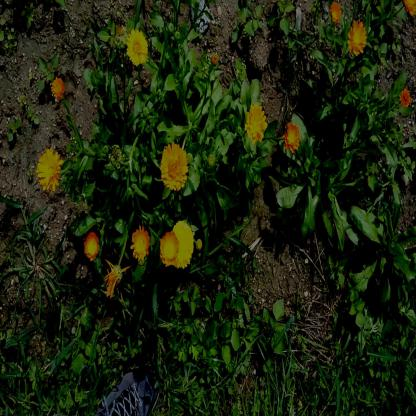marigold: (160, 141, 187, 190), (169, 221, 194, 268), (37, 148, 62, 189), (244, 102, 267, 136), (159, 231, 179, 268), (126, 29, 147, 62), (347, 21, 368, 53), (283, 120, 300, 154), (132, 227, 150, 258), (84, 230, 100, 262), (50, 74, 65, 100), (330, 0, 341, 23), (399, 86, 410, 108)
